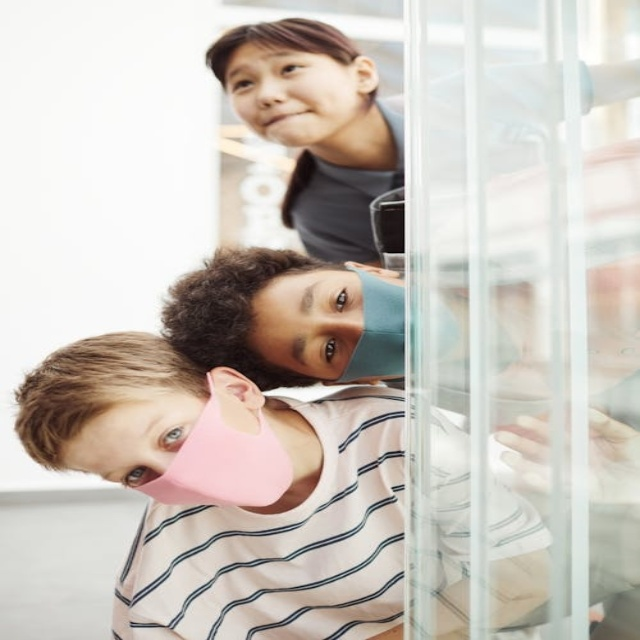Mascara: (130, 368, 295, 508), (334, 267, 406, 382)
Sin_gafas: (124, 466, 151, 487), (161, 426, 185, 448), (334, 288, 349, 313), (324, 338, 338, 363), (233, 79, 255, 93), (281, 64, 305, 75)
Sin_guantes: (477, 397, 637, 508)
Sin_mascara: (252, 103, 321, 135)
